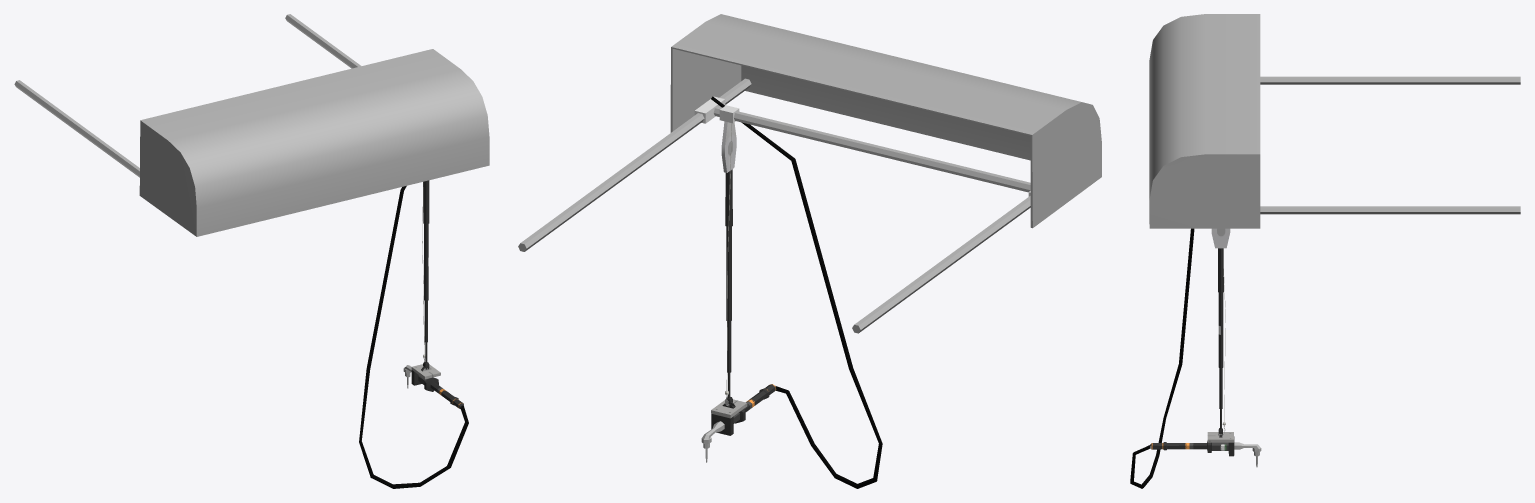
The model's file is daogua.FBX.
3 renders of one model, left to right at view 1: azimuth 30°, elevation 25°; view 2: azimuth 150°, elevation 25°; view 3: azimuth 270°, elevation 25°, orthographic. The views are drawn at different scales.
Visible parts, largest first — view 1: YF_Model_daogua; view 2: YF_Model_daogua; view 3: YF_Model_daogua.
Part boxes in pixels (x1,y1,x2,y2): YF_Model_daogua: (14,14,489,488); YF_Model_daogua: (518,14,1101,488); YF_Model_daogua: (1130,14,1520,488).
Size of the model in its own units: 167 by 205 by 196.
1 material, 1 textured.
